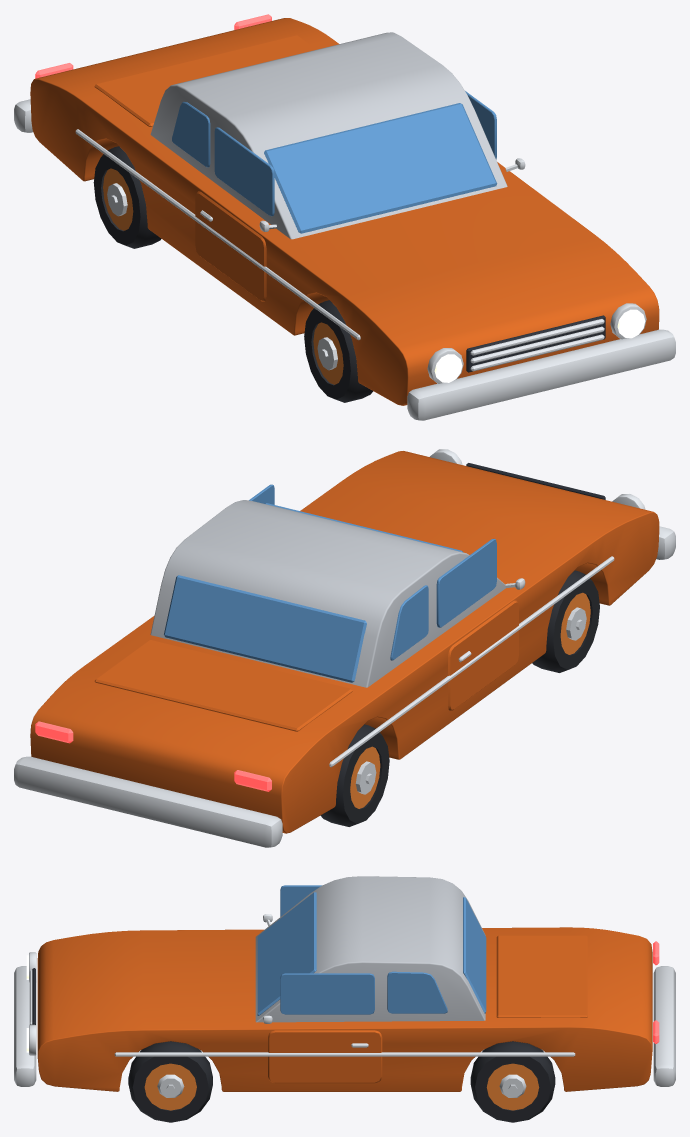
The model's file is carro_antigo_laranja.glb.
3 renders of one model, top to bottom at view 1: azimuth 30°, elevation 25°; view 2: azimuth 150°, elevation 25°; view 3: azimuth 270°, elevation 25°, orthographic. The views are drawn at different scales.
Visible parts, largest first — view 1: carro_antigo_laranja, porta_1, porta_malas_1, roda_1, roda_2, porta_2; view 2: carro_antigo_laranja, porta_malas_1, porta_1, roda_2, roda_1; view 3: carro_antigo_laranja, porta_2, porta_malas_1, roda_4, roda_3, porta_1.
Boxes of the visible parts, box(x1,y1,x2,y2) form: carro_antigo_laranja: box(14, 14, 675, 420); porta_1: box(195, 127, 274, 301); porta_malas_1: box(94, 35, 316, 126); roda_1: box(304, 300, 373, 402); roda_2: box(93, 146, 161, 248); porta_2: box(465, 91, 496, 159); carro_antigo_laranja: box(14, 449, 675, 847); porta_malas_1: box(94, 640, 352, 731); porta_1: box(436, 538, 518, 710); roda_2: box(320, 724, 389, 826); roda_1: box(532, 570, 599, 672); carro_antigo_laranja: box(14, 876, 675, 1091); porta_2: box(268, 973, 382, 1083); porta_malas_1: box(496, 935, 587, 1017); roda_4: box(470, 1041, 555, 1122); roda_3: box(128, 1041, 212, 1122); porta_1: box(280, 885, 321, 916).
Size of the model in its own units: 1.98 by 1.4 by 5.32.
Materials: 4 (1 with a texture image).
